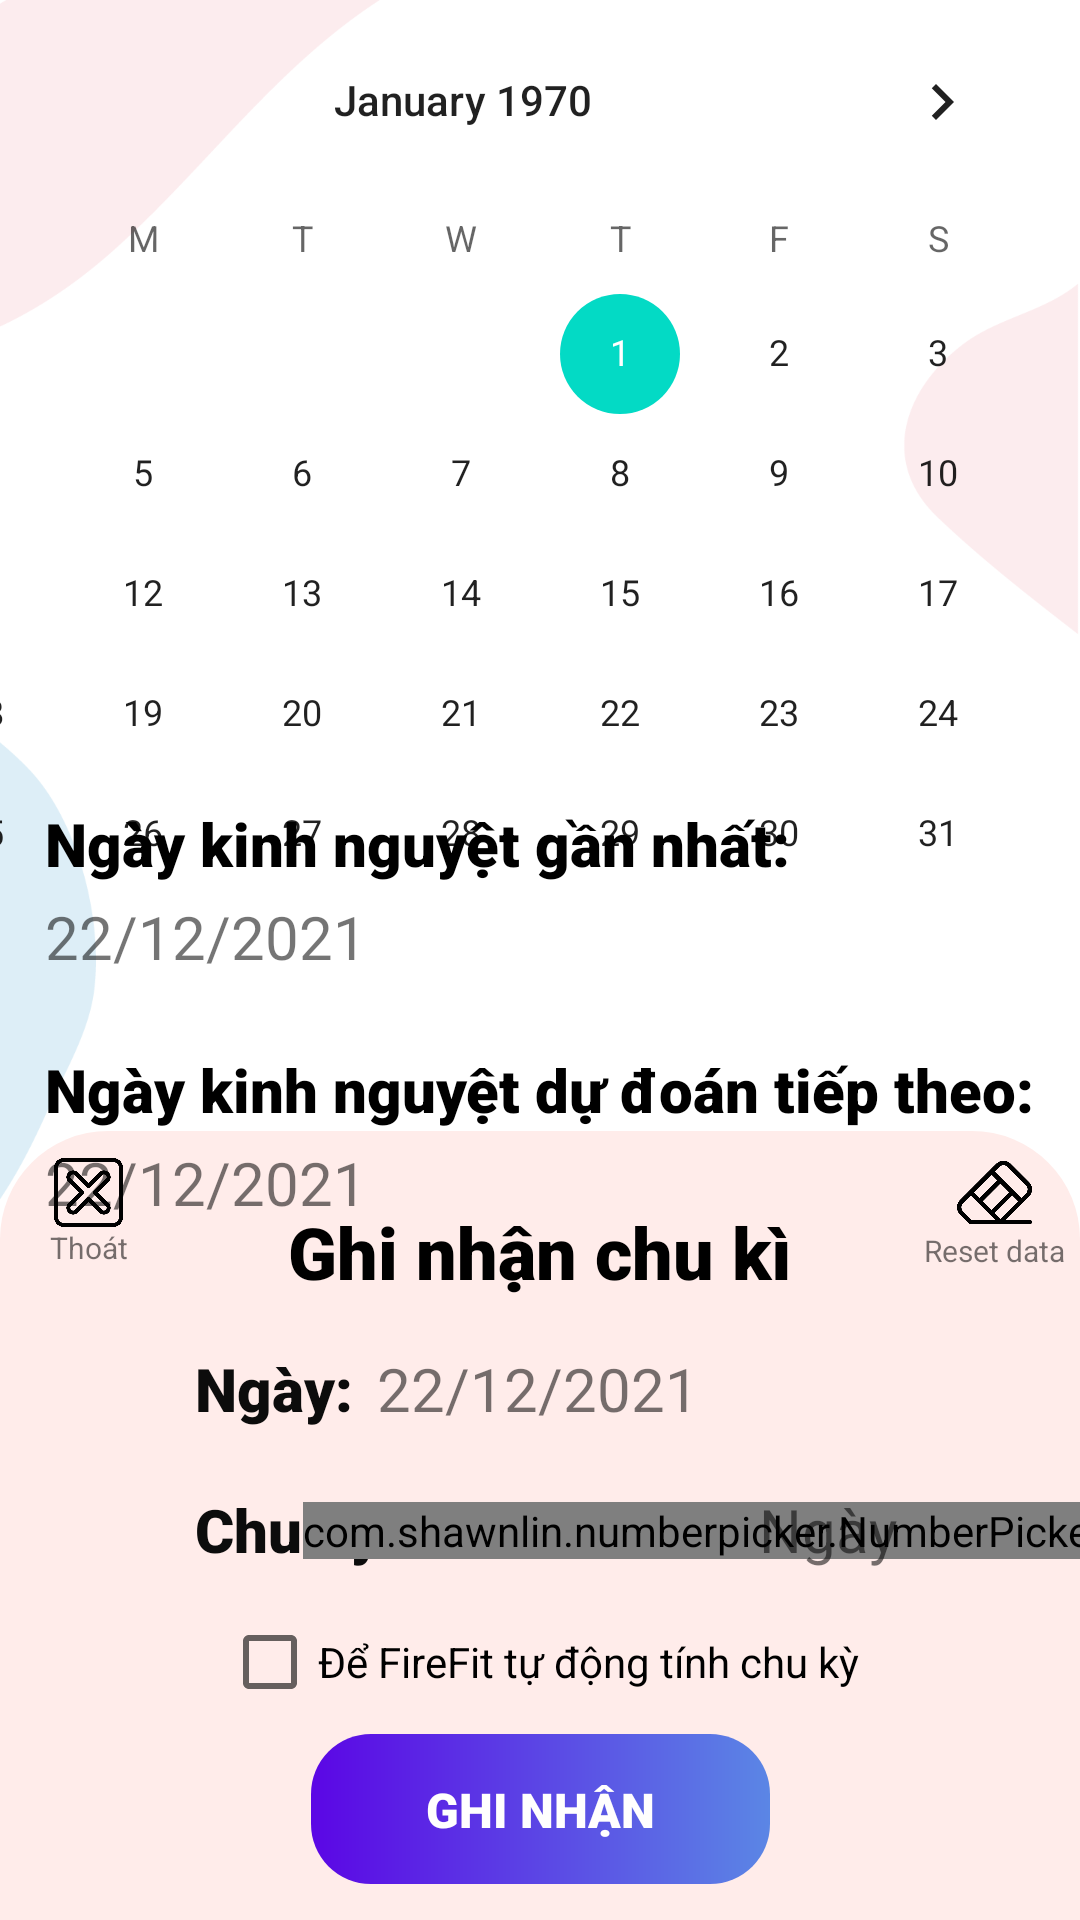

Icon click points for this 1080 × 1920 phone screenshot, format (x=x, y=y):
rubber: (x=994, y=1192)
